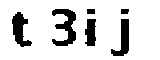3: (46, 6, 76, 51)
i: (85, 9, 103, 47)
j: (108, 8, 136, 60)
t: (8, 11, 36, 51)
